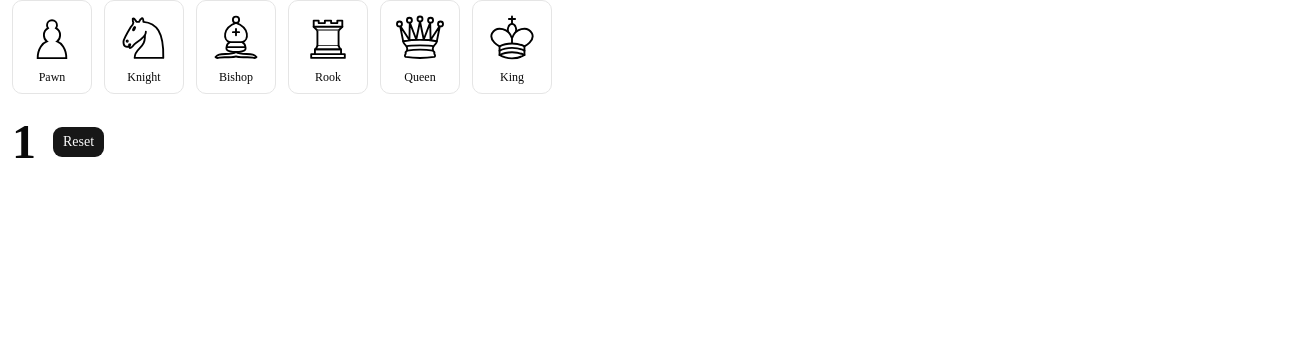
Scenario: <PieceValuesTraining /> › removes a piece from the answer when its tile is clicked
The image size is (1292, 341).
Click the picture with alt text "Pawn" at (52, 37), box left=24, top=9, right=80, bottom=65
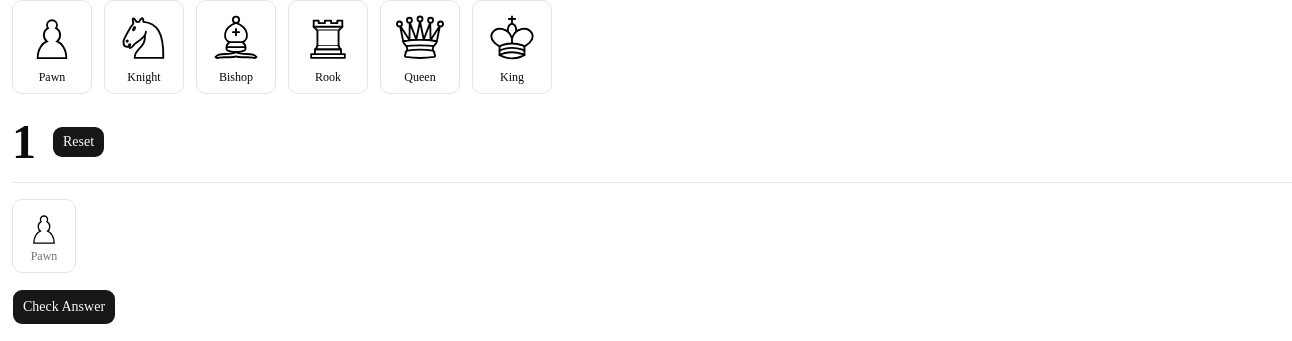
Expected: the number of pictures with alt text "Pawn" is 2
Click the 2nd picture with alt text "Pawn" at (44, 228), box left=24, top=208, right=64, bottom=248
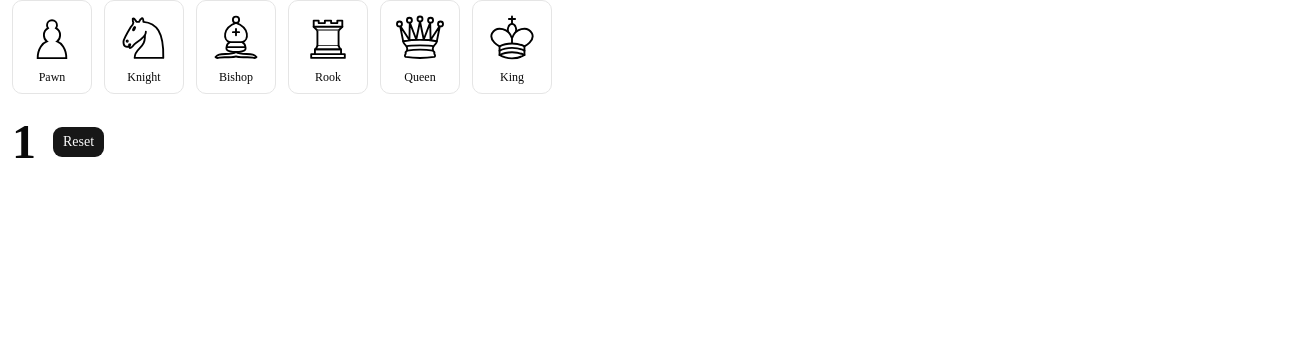
Expected: the number of pictures with alt text "Pawn" is 1, left=24, top=9, right=80, bottom=65
Expected: the button "Check Answer" is gone
